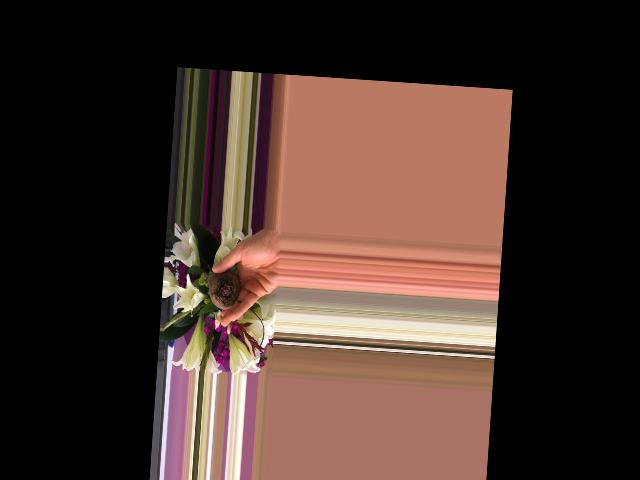beet: (207, 269, 242, 311)
